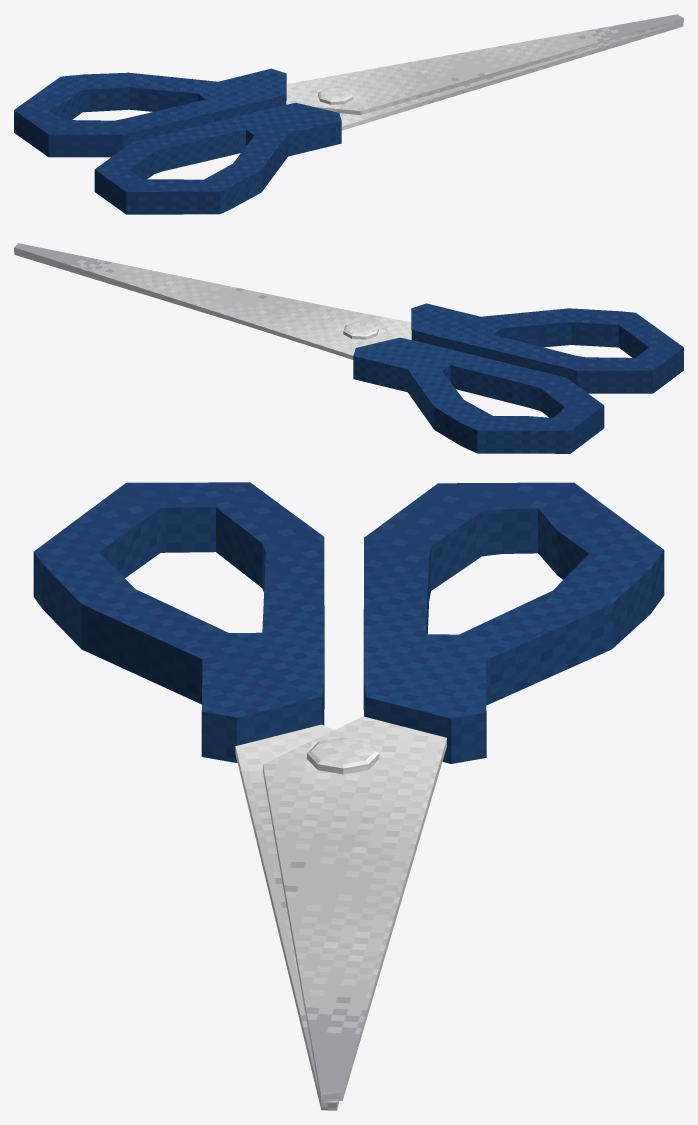
Rendered from Forbice.fbx.
3 views of the same model, one above another, from view 1: azimuth 30°, elevation 25°; view 2: azimuth 150°, elevation 25°; view 3: azimuth 270°, elevation 25° (orthographic). The views are drawn at different scales.
Visible parts, largest first — view 1: Cube.002; view 2: Cube.002; view 3: Cube.002.
Boxes of the visible parts, left/top/right/bottom form: Cube.002: left=14, top=14, right=683, bottom=214; Cube.002: left=14, top=243, right=683, bottom=453; Cube.002: left=33, top=482, right=664, bottom=1110.
Bounding box in the file's own units: 0.0518 × 0.00206 × 0.0233.
Materials: 2 (2 with a texture image).
